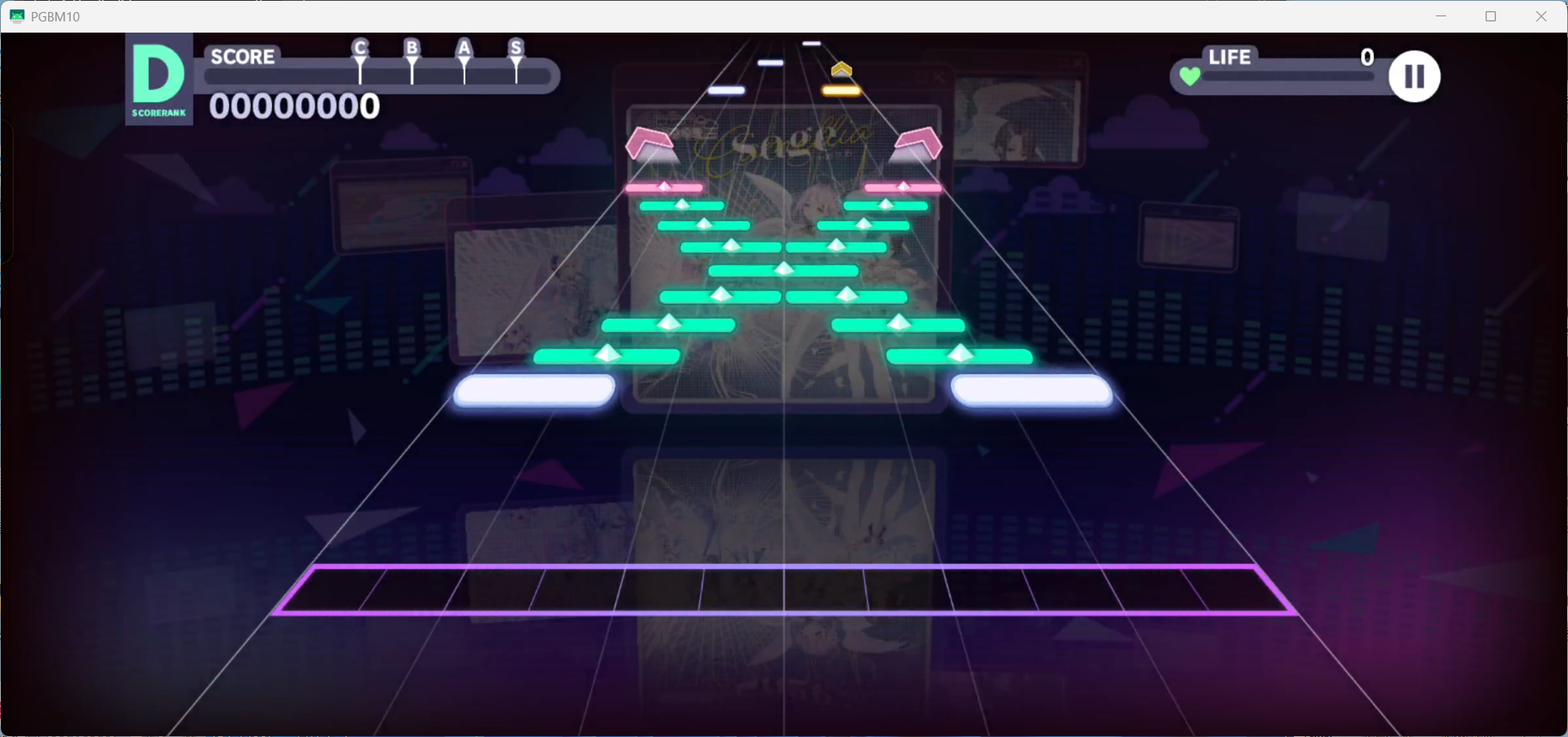flick: (886, 125, 944, 165), (624, 125, 682, 164), (831, 60, 853, 77)
sweep: (887, 342, 1032, 365), (533, 343, 681, 365), (603, 311, 736, 334), (832, 312, 965, 333), (659, 285, 782, 305), (786, 285, 908, 305), (708, 261, 859, 277), (681, 237, 781, 253), (786, 238, 887, 253), (658, 217, 751, 232), (817, 217, 909, 231), (843, 197, 928, 211), (640, 197, 724, 210), (625, 180, 703, 192), (865, 180, 943, 192)
tap: (951, 373, 1114, 407), (453, 373, 616, 407), (822, 86, 860, 95), (708, 86, 744, 94), (757, 59, 784, 66), (802, 41, 821, 45)
